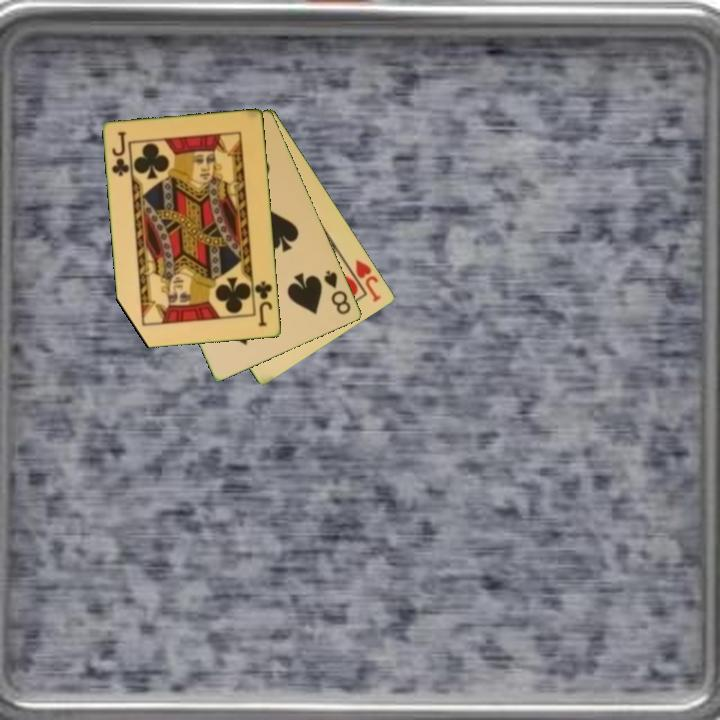8s: (320, 267, 354, 318)
Jc: (252, 278, 275, 330), (109, 128, 132, 179)
Jh: (352, 256, 384, 305)
